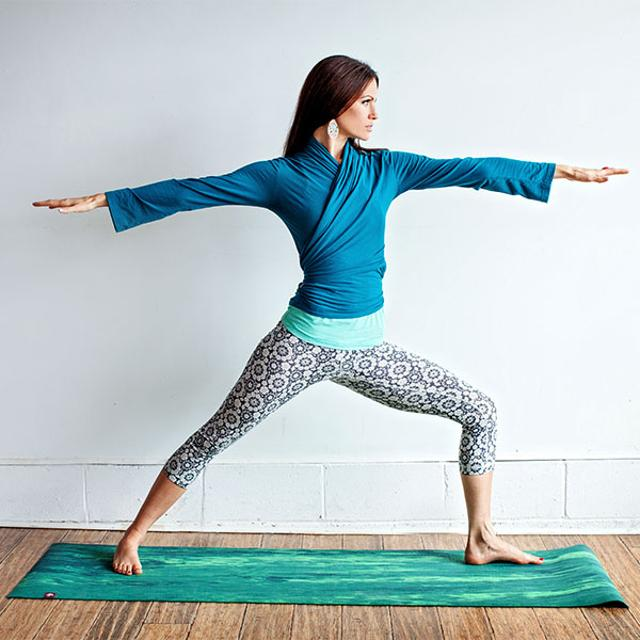Warrior_II: (27, 51, 631, 582)
